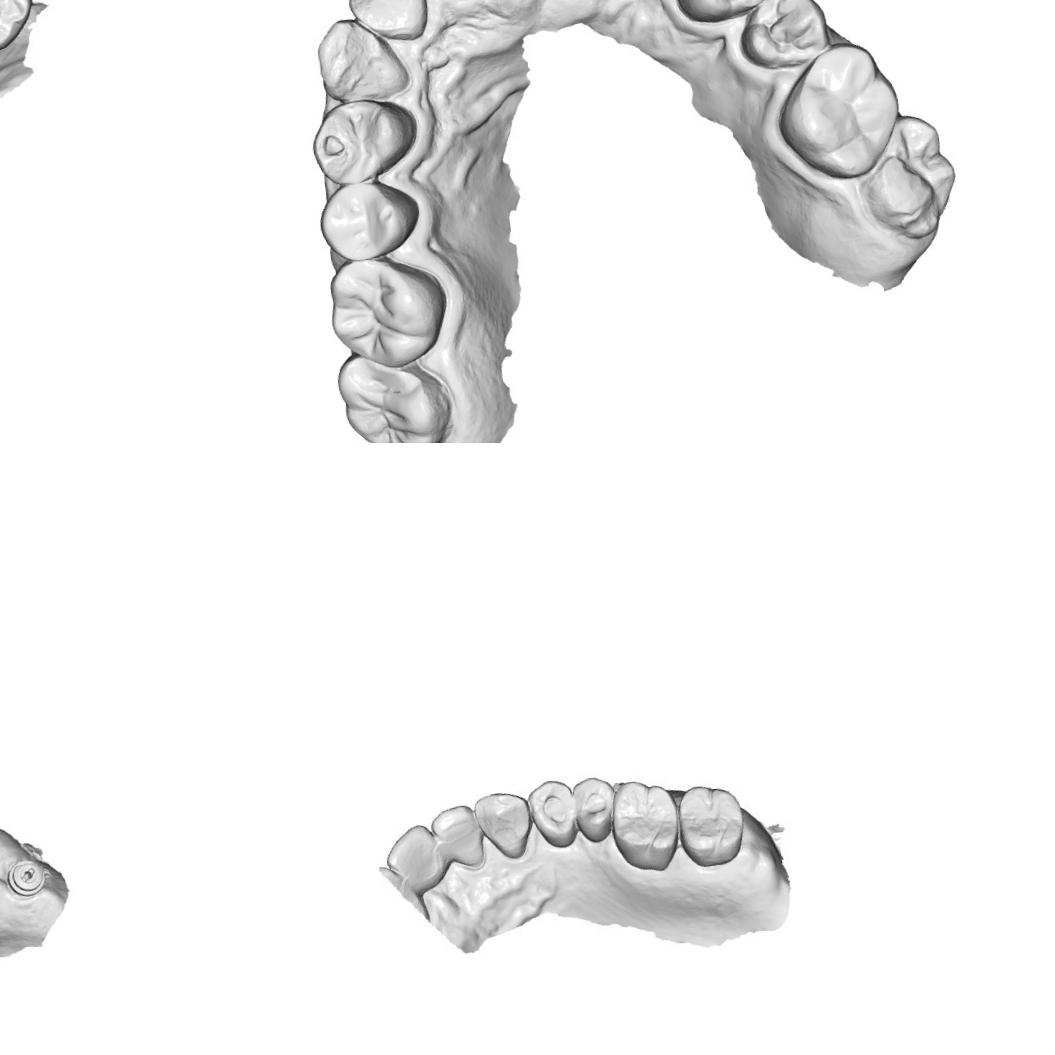canine: (310, 10, 410, 109), (470, 781, 536, 864)
implant_minus: (5, 858, 48, 899)
incisor: (379, 817, 448, 892), (424, 802, 492, 878), (342, 0, 431, 48)
molar: (768, 36, 910, 187), (318, 250, 452, 378), (857, 109, 965, 246), (335, 343, 458, 443), (604, 774, 680, 878), (672, 779, 752, 873), (0, 0, 31, 55)
premolar: (309, 92, 420, 186), (314, 175, 426, 265), (733, 0, 833, 75), (524, 772, 581, 855), (565, 771, 627, 847), (663, 0, 782, 29)
